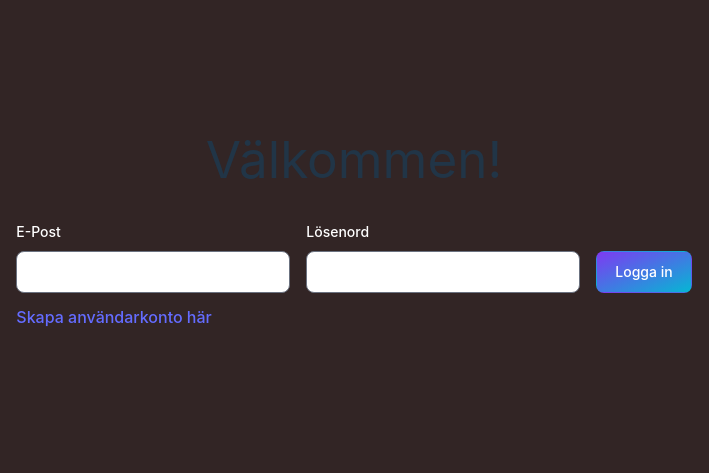
Test: register › Ska misslyckas när inget lösenord är ifyllt
The image size is (709, 473).
Click the link with test id "register". click: (114, 317)
box: x1=16 y1=307 x2=211 y2=327
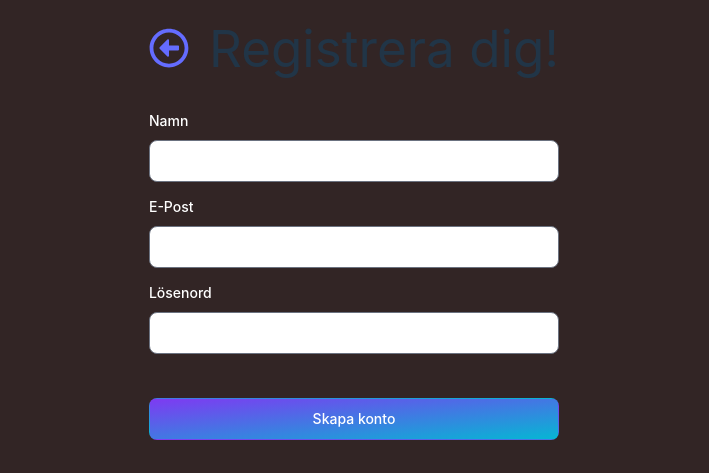
Type "testuser" into the field with test id "name". click: (354, 161)
box: x1=149 y1=140 x2=559 y2=182
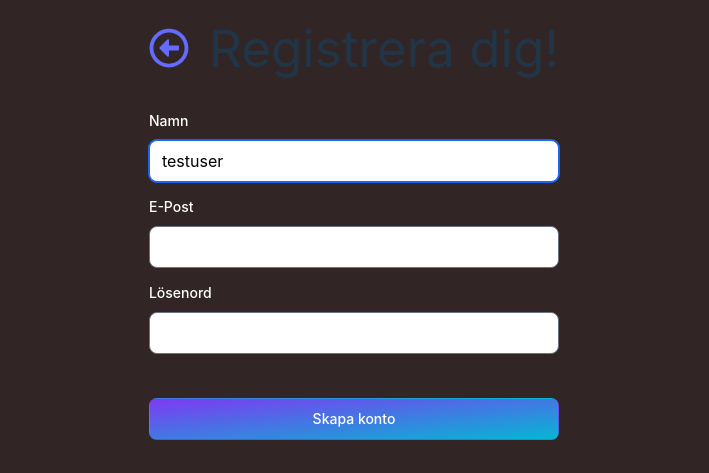
Type "testuser@email.com" into the field with test id "email". click: (354, 247)
box: x1=149 y1=226 x2=559 y2=268
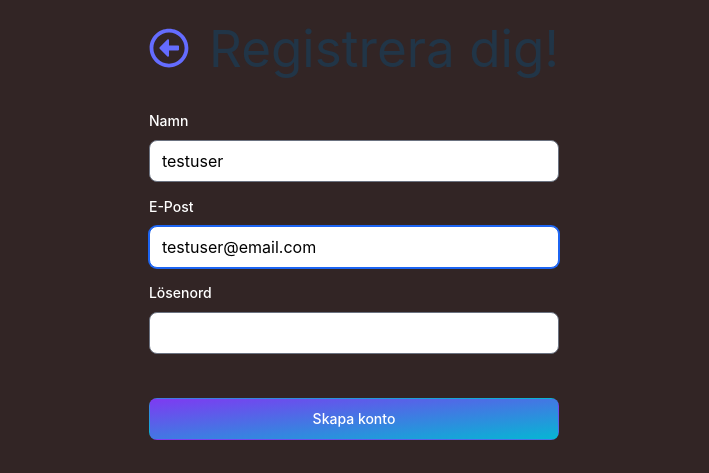
Click the button with test id "registerSubmit". click: (354, 419)
box: x1=149 y1=398 x2=559 y2=440
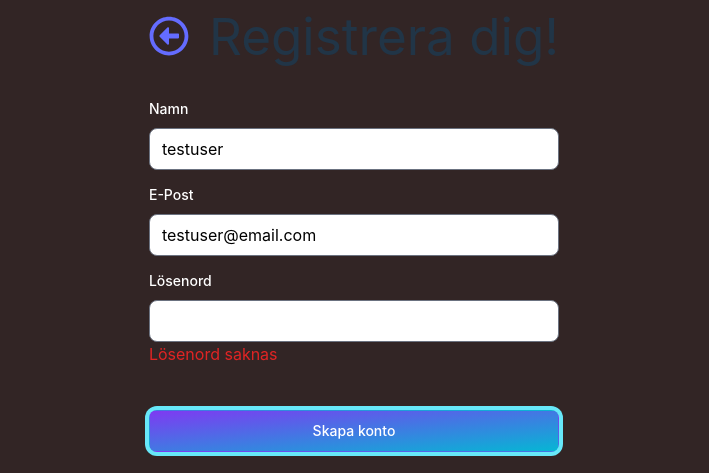
Check: the text "Lösenord saknas" is shown, box x1=149 y1=344 x2=278 y2=364
